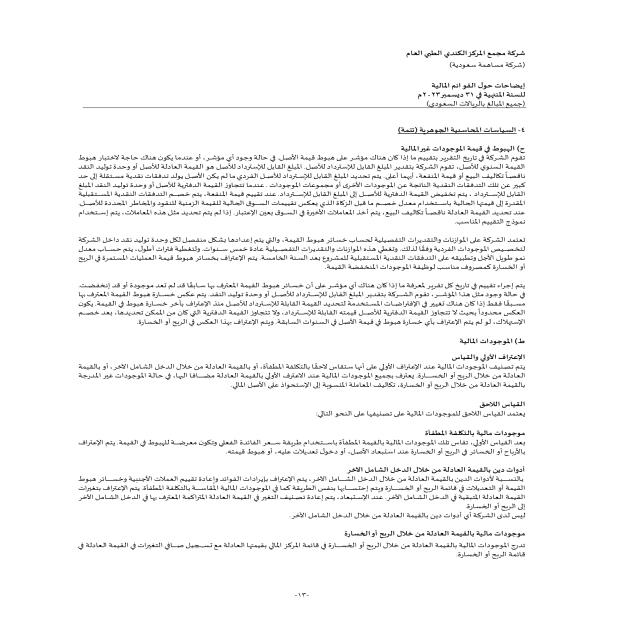notes: (413, 77, 532, 93)
text: (38, 123, 538, 560)
